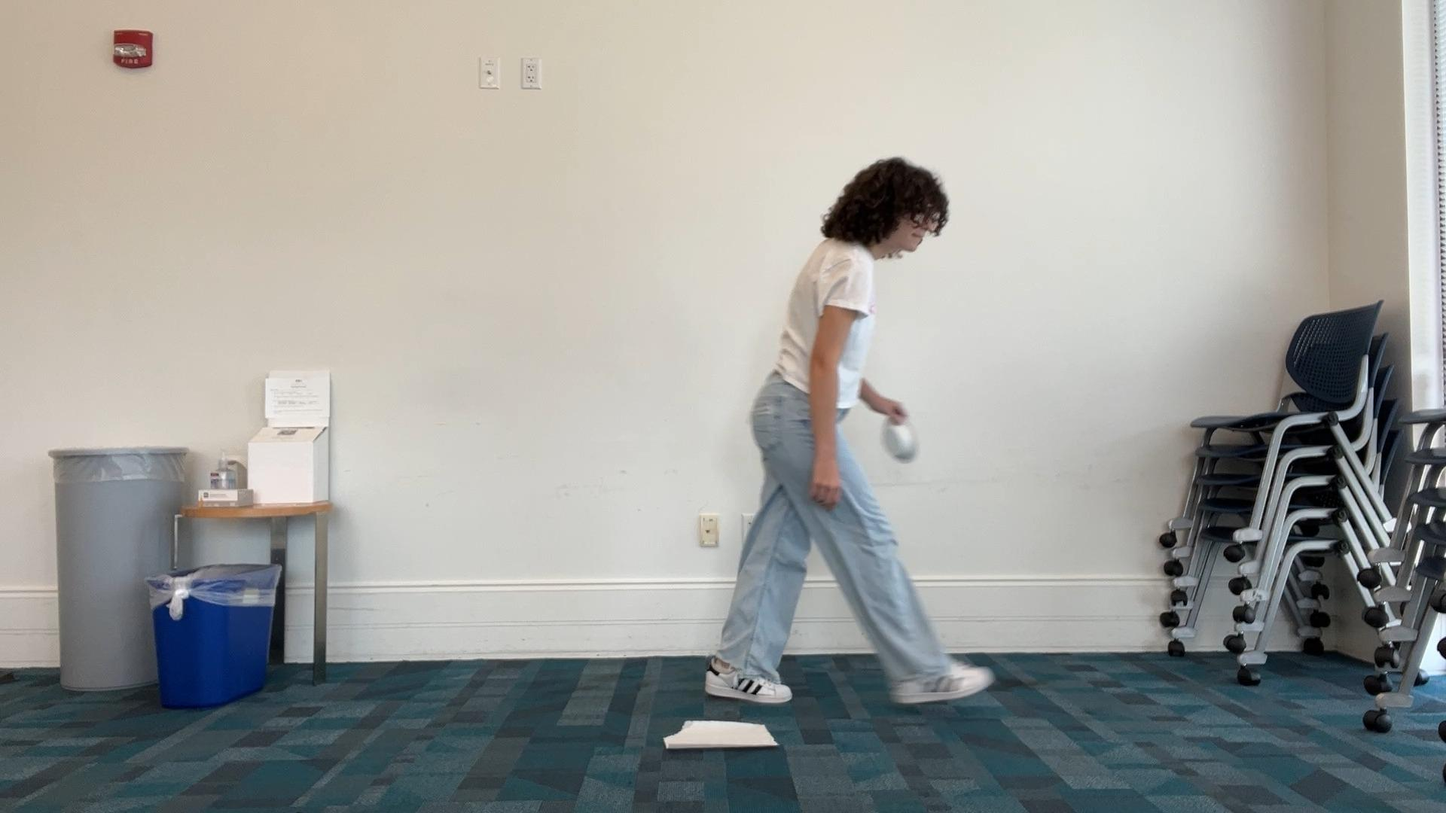Trash: (651, 706, 793, 764)
